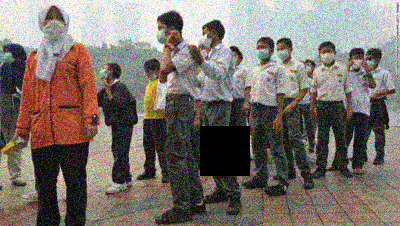mask_weared_incorrect: (144, 68, 155, 81)
with_mask: (42, 11, 66, 40), (157, 24, 170, 45), (320, 48, 335, 64), (256, 44, 270, 60), (276, 46, 289, 62), (3, 49, 16, 64), (202, 29, 212, 48), (351, 55, 363, 69), (197, 45, 208, 60), (366, 55, 376, 70), (100, 66, 109, 82), (305, 63, 312, 73)
